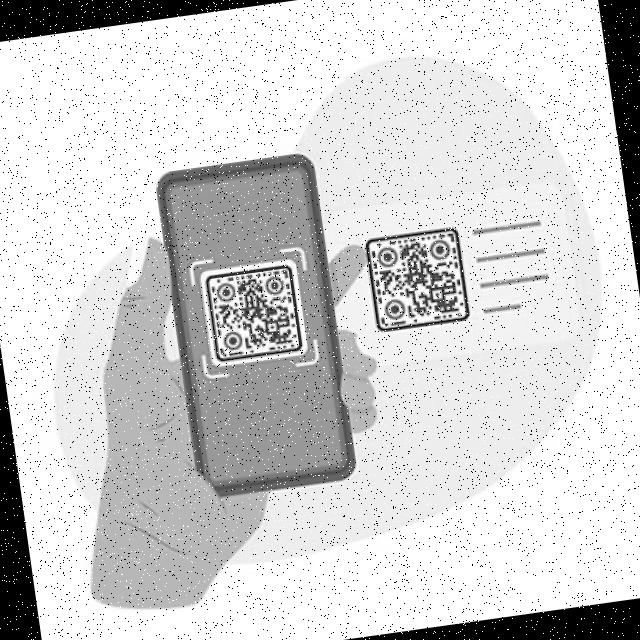QR-codes: (362, 224, 472, 334), (202, 262, 302, 364)
